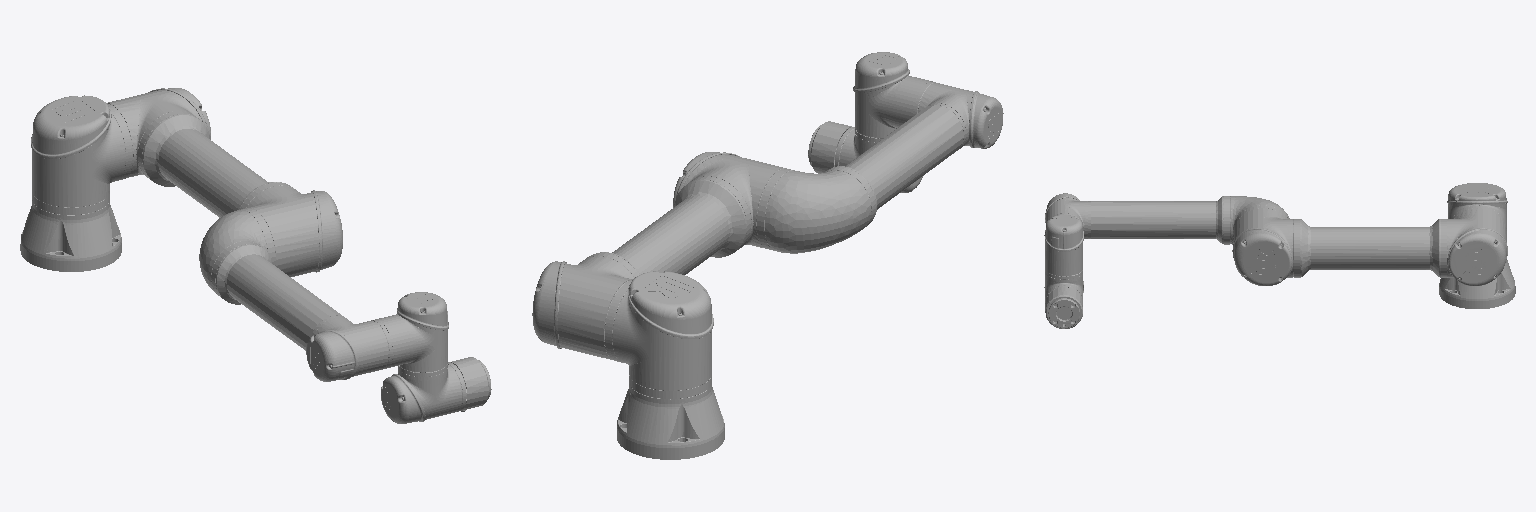
URDF robot description (ur5e_robot):
<?xml version="1.0" ?>
<robot name="ur5e_robot">

    <!-- 创建中间链接用于连接各关节 -->
    <link name="base_link_for_offset"/>
    <link name="pos_x_link"/>
    <link name="pos_y_link"/>
    <link name="pos_z_link"/>
    <link name="rot_x_link"/>
    <link name="rot_y_link"/>
    <!-- X方向平移关节 -->
    <joint name="pos_x_joint" type="prismatic">
      <parent link="base_link_for_offset"/>
      <child link="pos_x_link"/>
      <origin xyz="0 0 0" rpy="0 0 0"/>
      <axis xyz="1 0 0"/>
      <limit lower="-10" upper="10" effort="100" velocity="1"/>
    </joint>
    <!-- Y方向平移关节 -->
    <joint name="pos_y_joint" type="prismatic">
      <parent link="pos_x_link"/>
      <child link="pos_y_link"/>
      <origin xyz="0 0 0" rpy="0 0 0"/>
      <axis xyz="0 1 0"/>
      <limit lower="-10" upper="10" effort="100" velocity="1"/>
    </joint>
    <!-- Z方向平移关节 -->
    <joint name="pos_z_joint" type="prismatic">
      <parent link="pos_y_link"/>
      <child link="pos_z_link"/>
      <origin xyz="0 0 0" rpy="0 0 0"/>
      <axis xyz="0 0 1"/>
      <limit lower="-10" upper="10" effort="100" velocity="1"/>
    </joint>
    <!-- X轴旋转关节 -->
    <joint name="rot_x_joint" type="revolute">
      <parent link="pos_z_link"/>
      <child link="rot_x_link"/>
      <origin xyz="0 0 0" rpy="0 0 0"/>
      <axis xyz="1 0 0"/>
      <limit lower="-6.28" upper="6.28" effort="100" velocity="1"/>
    </joint>
    <!-- Y轴旋转关节 -->
    <joint name="rot_y_joint" type="revolute">
      <parent link="rot_x_link"/>
      <child link="rot_y_link"/>
      <origin xyz="0 0 0" rpy="0 0 0"/>
      <axis xyz="0 1 0"/>
      <limit lower="-6.28" upper="6.28" effort="100" velocity="1"/>
    </joint>
    <!-- Z轴旋转关节 -->
    <joint name="rot_z_joint" type="revolute">
      <parent link="rot_y_link"/>
      <child link="base_link"/>
      <origin xyz="0 0 0" rpy="0 0 0"/>
      <axis xyz="0 0 1"/>
      <limit lower="-6.28" upper="6.28" effort="100" velocity="1"/>
    </joint>


  <link name="base_link"/>
  <link name="base_offset_link"/>
  <link name="base_link_inertia">
    <visual>
      <origin rpy="0 0 3.141592653589793" xyz="0 0 0"/>
      <geometry>
        <mesh filename="meshes/visual/base.dae"/>
      </geometry>
      <material name="LightGrey">
        <color rgba="0.7 0.7 0.7 1.0"/>
      </material>
    </visual>
    <collision>
      <origin rpy="0 0 3.141592653589793" xyz="0 0 0"/>
      <geometry>
        <mesh filename="meshes/collision/base.stl"/>
      </geometry>
    </collision>
    <inertial>
      <mass value="4.0"/>
      <origin rpy="0 0 0" xyz="0 0 0"/>
      <inertia ixx="0.00443333156" ixy="0.0" ixz="0.0" iyy="0.00443333156" iyz="0.0" izz="0.0072"/>
    </inertial>
  </link>
  <link name="shoulder_link">
    <visual>
      <origin rpy="0 0 3.141592653589793" xyz="0 0 0"/>
      <geometry>
        <mesh filename="meshes/visual/shoulder.dae"/>
      </geometry>
      <material name="LightGrey">
        <color rgba="0.7 0.7 0.7 1.0"/>
      </material>
    </visual>
    <collision>
      <origin rpy="0 0 3.141592653589793" xyz="0 0 0"/>
      <geometry>
        <mesh filename="meshes/collision/shoulder.stl"/>
      </geometry>
    </collision>
    <inertial>
      <mass value="3.7"/>
      <origin rpy="0 0 0" xyz="0 0 0"/>
      <inertia ixx="0.010267495893" ixy="0.0" ixz="0.0" iyy="0.010267495893" iyz="0.0" izz="0.00666"/>
    </inertial>
  </link>
  <link name="upper_arm_link">
    <visual>
      <origin rpy="1.5707963267948966 0 -1.5707963267948966" xyz="0 0 0.138"/>
      <geometry>
        <mesh filename="meshes/visual/upperarm.dae"/>
      </geometry>
      <material name="LightGrey">
        <color rgba="0.7 0.7 0.7 1.0"/>
      </material>
    </visual>
    <collision>
      <origin rpy="1.5707963267948966 0 -1.5707963267948966" xyz="0 0 0.138"/>
      <geometry>
        <mesh filename="meshes/collision/upperarm.stl"/>
      </geometry>
    </collision>
    <inertial>
      <mass value="8.393"/>
      <origin rpy="0 1.5707963267948966 0" xyz="-0.2125 0.0 0.138"/>
      <inertia ixx="0.1338857818623325" ixy="0.0" ixz="0.0" iyy="0.1338857818623325" iyz="0.0" izz="0.0151074"/>
    </inertial>
  </link>
  <link name="forearm_link">
    <visual>
      <origin rpy="1.5707963267948966 0 -1.5707963267948966" xyz="0 0 0.007"/>
      <geometry>
        <mesh filename="meshes/visual/forearm.dae"/>
      </geometry>
      <material name="LightGrey">
        <color rgba="0.7 0.7 0.7 1.0"/>
      </material>
    </visual>
    <collision>
      <origin rpy="1.5707963267948966 0 -1.5707963267948966" xyz="0 0 0.007"/>
      <geometry>
        <mesh filename="meshes/collision/forearm.stl"/>
      </geometry>
    </collision>
    <inertial>
      <mass value="2.275"/>
      <origin rpy="0 1.5707963267948966 0" xyz="-0.1961 0.0 0.007"/>
      <inertia ixx="0.031209355099586295" ixy="0.0" ixz="0.0" iyy="0.031209355099586295" iyz="0.0" izz="0.004095"/>
    </inertial>
  </link>
  <link name="wrist_1_link">
    <visual>
      <!-- TODO: Move this to a parameter -->
      <origin rpy="1.5707963267948966 0 0" xyz="0 0 -0.127"/>
      <geometry>
        <mesh filename="meshes/visual/wrist1.dae"/>
      </geometry>
      <material name="LightGrey">
        <color rgba="0.7 0.7 0.7 1.0"/>
      </material>
    </visual>
    <collision>
      <origin rpy="1.5707963267948966 0 0" xyz="0 0 -0.127"/>
      <geometry>
        <mesh filename="meshes/collision/wrist1.stl"/>
      </geometry>
    </collision>
    <inertial>
      <mass value="1.219"/>
      <origin rpy="0 0 0" xyz="0 0 0"/>
      <inertia ixx="0.0025598989760400002" ixy="0.0" ixz="0.0" iyy="0.0025598989760400002" iyz="0.0" izz="0.0021942"/>
    </inertial>
  </link>
  <link name="wrist_2_link">
    <visual>
      <origin rpy="0 0 0" xyz="0 0 -0.0997"/>
      <geometry>
        <mesh filename="meshes/visual/wrist2.dae"/>
      </geometry>
      <material name="LightGrey">
        <color rgba="0.7 0.7 0.7 1.0"/>
      </material>
    </visual>
    <collision>
      <origin rpy="0 0 0" xyz="0 0 -0.0997"/>
      <geometry>
        <mesh filename="meshes/collision/wrist2.stl"/>
      </geometry>
    </collision>
    <inertial>
      <mass value="1.219"/>
      <origin rpy="0 0 0" xyz="0 0 0"/>
      <inertia ixx="0.0025598989760400002" ixy="0.0" ixz="0.0" iyy="0.0025598989760400002" iyz="0.0" izz="0.0021942"/>
    </inertial>
  </link>
  <link name="wrist_3_link">
    <visual>
      <origin rpy="1.5707963267948966 0 0" xyz="0 0 -0.0989"/>
      <geometry>
        <mesh filename="meshes/visual/wrist3.dae"/>
      </geometry>
      <material name="LightGrey">
        <color rgba="0.7 0.7 0.7 1.0"/>
      </material>
    </visual>
    <collision>
      <origin rpy="1.5707963267948966 0 0" xyz="0 0 -0.0989"/>
      <geometry>
        <mesh filename="meshes/collision/wrist3.stl"/>
      </geometry>
    </collision>
    <inertial>
      <mass value="0.1879"/>
      <origin rpy="0 0 0" xyz="0.0 0.0 -0.0229"/>
      <inertia ixx="9.890410052167731e-05" ixy="0.0" ixz="0.0" iyy="9.890410052167731e-05" iyz="0.0" izz="0.0001321171875"/>
    </inertial>
  </link>

  <!-- joints: main serial chain -->
  <joint name="base_offset_joint" type="fixed">
    <parent link="base_link"/>
    <child link="base_offset_link"/>
    <origin rpy="0 0 0" xyz="0 0 0"/>
  </joint>
  <joint name="base_link-base_link_inertia" type="fixed">
    <parent link="base_offset_link"/>
    <child link="base_link_inertia"/>
    <!-- 'base_link' is REP-103 aligned (so X+ forward), while the internal
           frames of the robot/controller have X+ pointing backwards.
           Use the joint between 'base_link' and 'base_link_inertia' (a dummy
           link/frame) to introduce the necessary rotation over Z (of pi rad).
      -->
    <origin rpy="0 0 1.5707963267948966" xyz="0 0 0"/>
  </joint>
  <joint name="shoulder_pan_joint" type="revolute">
    <parent link="base_link_inertia"/>
    <child link="shoulder_link"/>
    <origin rpy="0 0 0" xyz="0 0 0.1625"/>
    <axis xyz="0 0 1"/>
    <limit effort="150.0" lower="-6" upper="6" velocity="3.141592653589793"/>
    <dynamics damping="0" friction="0"/>
  </joint>
  <joint name="shoulder_lift_joint" type="revolute">
    <parent link="shoulder_link"/>
    <child link="upper_arm_link"/>
    <origin rpy="1.570796327 0 0" xyz="0 0 0"/>
    <axis xyz="0 0 1"/>
    <limit effort="150.0" lower="-6" upper="6" velocity="3.141592653589793"/>
    <dynamics damping="0" friction="0"/>
  </joint>
  <joint name="elbow_joint" type="revolute">
    <parent link="upper_arm_link"/>
    <child link="forearm_link"/>
    <origin rpy="0 0 0" xyz="-0.425 0 0"/>
    <axis xyz="0 0 1"/>
    <limit effort="150.0" lower="-6" upper="6" velocity="3.141592653589793"/>
    <dynamics damping="0" friction="0"/>
  </joint>
  <joint name="wrist_1_joint" type="revolute">
    <parent link="forearm_link"/>
    <child link="wrist_1_link"/>
    <origin rpy="0 0 0" xyz="-0.3922 0 0.1333"/>
    <axis xyz="0 0 1"/>
    <limit effort="28.0" lower="-6" upper="6" velocity="3.141592653589793"/>
    <dynamics damping="0" friction="0"/>
  </joint>
  <joint name="wrist_2_joint" type="revolute">
    <parent link="wrist_1_link"/>
    <child link="wrist_2_link"/>
    <origin rpy="1.570796327 0 0" xyz="0 -0.0997 -2.044881182297852e-11"/>
    <axis xyz="0 0 1"/>
    <limit effort="28.0" lower="-6" upper="6" velocity="3.141592653589793"/>
    <dynamics damping="0" friction="0"/>
  </joint>
  <joint name="wrist_3_joint" type="revolute">
    <parent link="wrist_2_link"/>
    <child link="wrist_3_link"/>
    <origin rpy="1.570796326589793 3.141592653589793 3.141592653589793" xyz="0 0.0996 -2.042830148012698e-11"/>
    <axis xyz="0 0 1"/>
    <limit effort="28.0" lower="-6" upper="6" velocity="3.141592653589793"/>
    <dynamics damping="0" friction="0"/>
  </joint>


  <link name="base"/>

  <joint name="arm_hand_joint" type="fixed">
    <origin xyz="-0.03 0.01 0.123" rpy="0. -1.57079 -1.57079"/>
    <parent link="wrist_3_link"/>
    <child link="base"/>
  </joint>

  
</robot>

--- Render facts (derived) ---
Views: 3 orthographic renders of the robot side by side, from view 1: azimuth 30°, elevation 25°; view 2: azimuth 150°, elevation 25°; view 3: azimuth 270°, elevation 25°.
Model ur5e_robot with 16 links and 15 joints (9 revolute, 3 prismatic, 3 fixed), rooted at base_link_for_offset, posed every joint at zero.
Links seen in each view (by area): view 1: upper_arm_link, forearm_link, shoulder_link, base_link_inertia, wrist_1_link, wrist_2_link, wrist_3_link; view 2: upper_arm_link, forearm_link, shoulder_link, base_link_inertia, wrist_1_link, wrist_3_link, wrist_2_link; view 3: upper_arm_link, forearm_link, wrist_1_link, base_link_inertia, shoulder_link, wrist_3_link.
Link boxes in pixels (bbox=[...]): upper_arm_link: bbox=[108, 88, 342, 276]; forearm_link: bbox=[199, 210, 392, 381]; shoulder_link: bbox=[31, 95, 133, 206]; base_link_inertia: bbox=[20, 192, 121, 271]; wrist_1_link: bbox=[375, 292, 448, 376]; wrist_2_link: bbox=[381, 362, 466, 423]; wrist_3_link: bbox=[451, 357, 491, 411]; upper_arm_link: bbox=[532, 152, 791, 359]; forearm_link: bbox=[765, 82, 1003, 253]; shoulder_link: bbox=[604, 271, 713, 390]; base_link_inertia: bbox=[617, 375, 724, 459]; wrist_1_link: bbox=[853, 52, 932, 142]; wrist_3_link: bbox=[808, 121, 851, 173]; wrist_2_link: bbox=[835, 127, 922, 192]; upper_arm_link: bbox=[1232, 205, 1507, 285]; forearm_link: bbox=[1045, 193, 1289, 244]; wrist_1_link: bbox=[1044, 214, 1083, 279]; base_link_inertia: bbox=[1439, 260, 1515, 308]; shoulder_link: bbox=[1447, 183, 1507, 229]; wrist_3_link: bbox=[1045, 287, 1082, 328].
Size in the robot's own frame: 0.3085 by 0.932 by 0.234 metres.
Meshes: 7 distinct files referenced, 7 mesh visuals loaded (7 Collada DAE).
